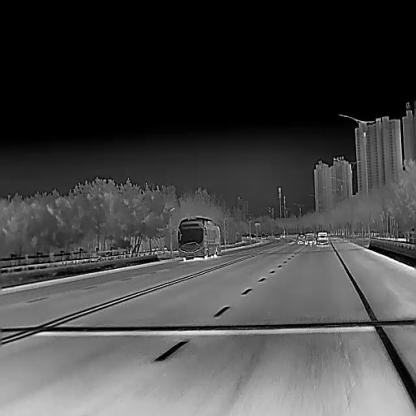bus: (178, 216, 220, 260)
car: (316, 230, 328, 245), (304, 232, 316, 246), (296, 232, 306, 244)
